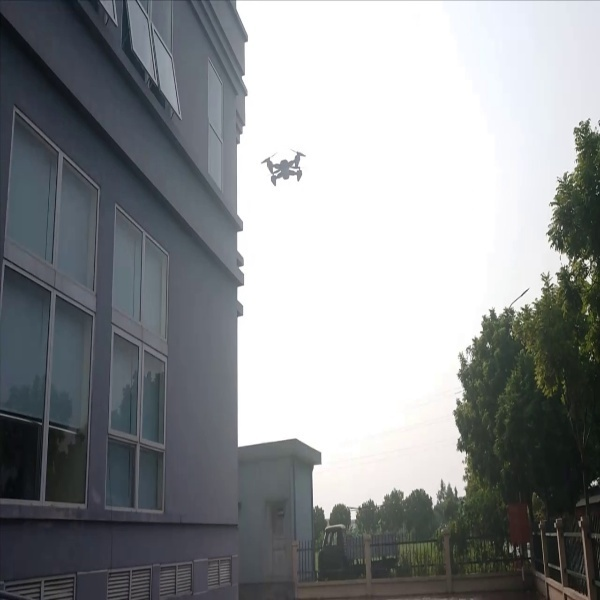drone: (255, 131, 308, 198)
